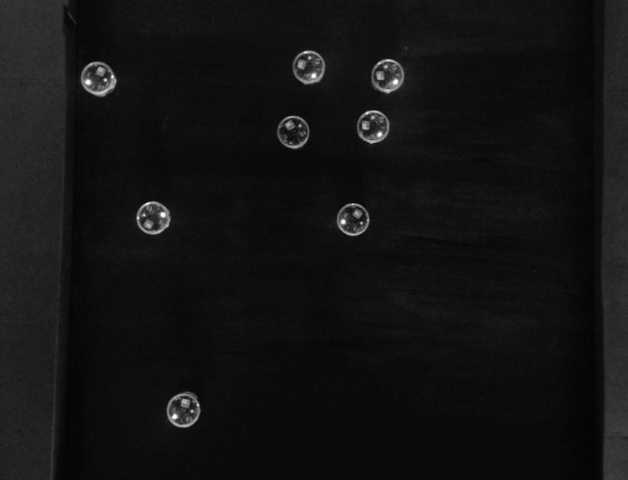epuck_2: (164, 390, 202, 428), (78, 61, 118, 97), (290, 49, 327, 86), (355, 109, 390, 148), (134, 200, 173, 235), (369, 57, 405, 93), (336, 202, 371, 236), (276, 115, 310, 148)
